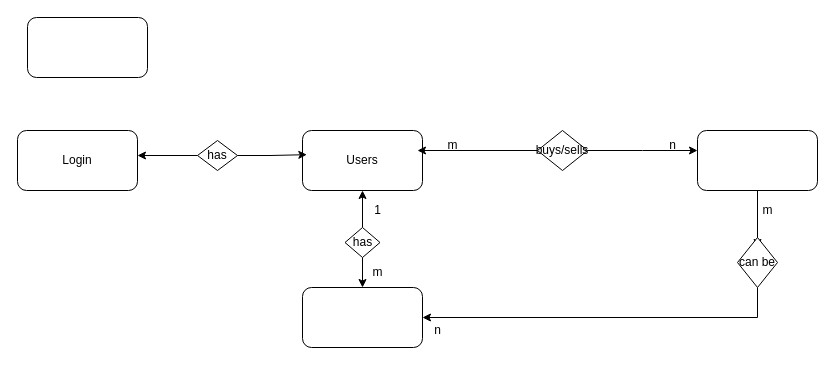
This 835x365 diagram has some shape labels left out. The shapes that lost their labels are listed below. From the top down, each one's centre as x and y in pixels, then its label:
point (87, 47): Admin
point (757, 160): Books
point (362, 317): Order
